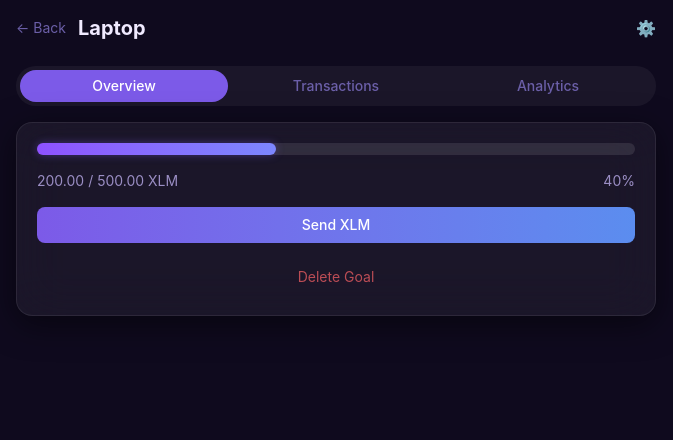
Test case: GoalDetailPage › Settings butonuna tıklayınca PrivacySettings görünür
This screenshot has width=673, height=440.
Click the button named "settings" at (646, 28), box [636,16,656,40]
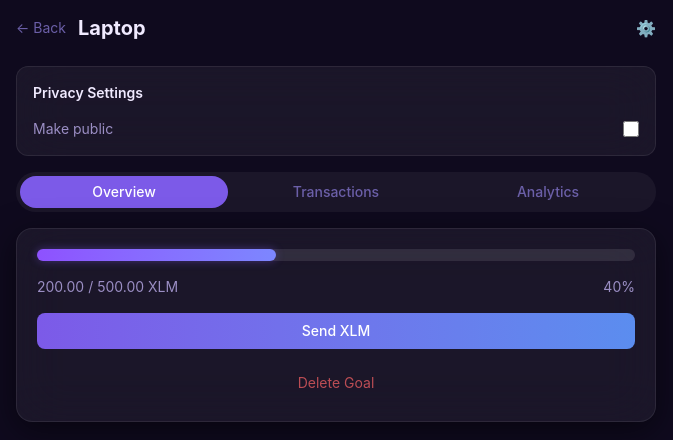
Expected: the heading "Privacy Settings" is shown, [33,84,143,101]
